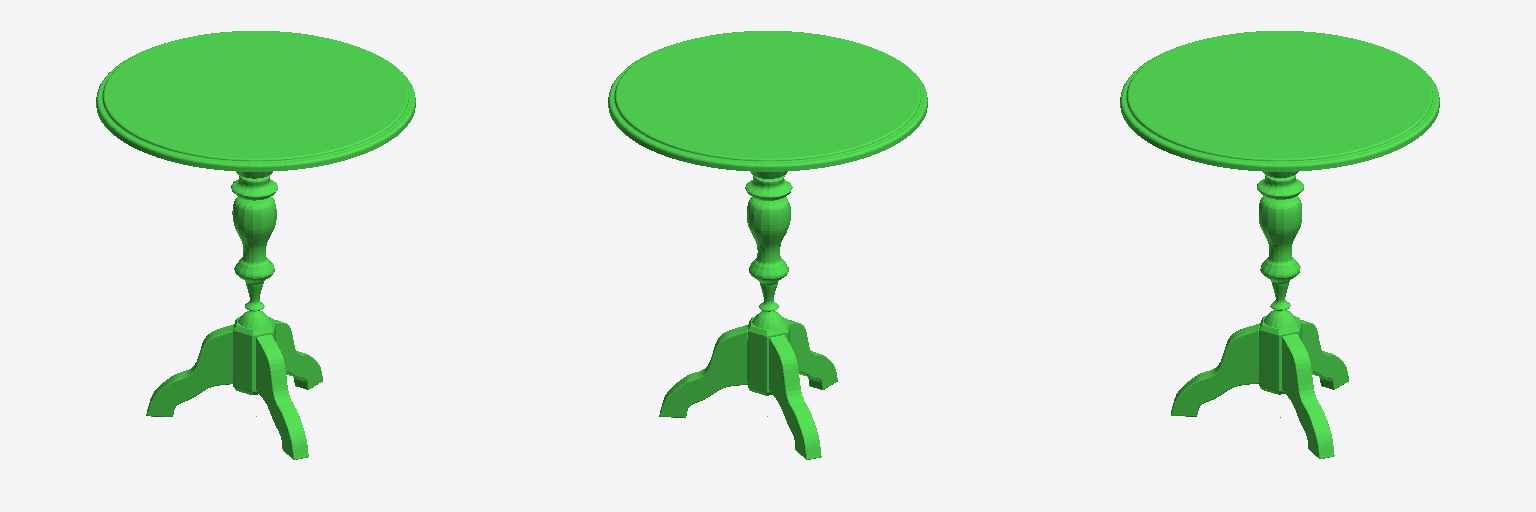
The model's file is bartable.obj.
3 views of the same model, side by side, from view 1: azimuth 30°, elevation 25°; view 2: azimuth 150°, elevation 25°; view 3: azimuth 270°, elevation 25° (orthographic).
Parts seen in each view (by area): view 1: Bar_table; view 2: Bar_table; view 3: Bar_table.
Part boxes in pixels (bbox=[...]): Bar_table: bbox=[96, 31, 415, 459]; Bar_table: bbox=[608, 31, 927, 459]; Bar_table: bbox=[1120, 31, 1439, 458].
Size of the model in its own units: 710 by 791 by 710.